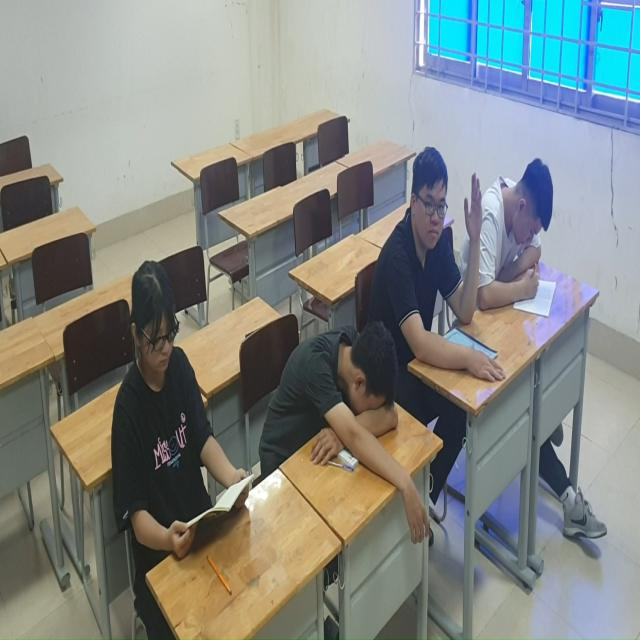raise_hand: (375, 141, 488, 346)
read: (97, 235, 253, 589), (480, 148, 564, 329)
sleep: (267, 268, 443, 519)
